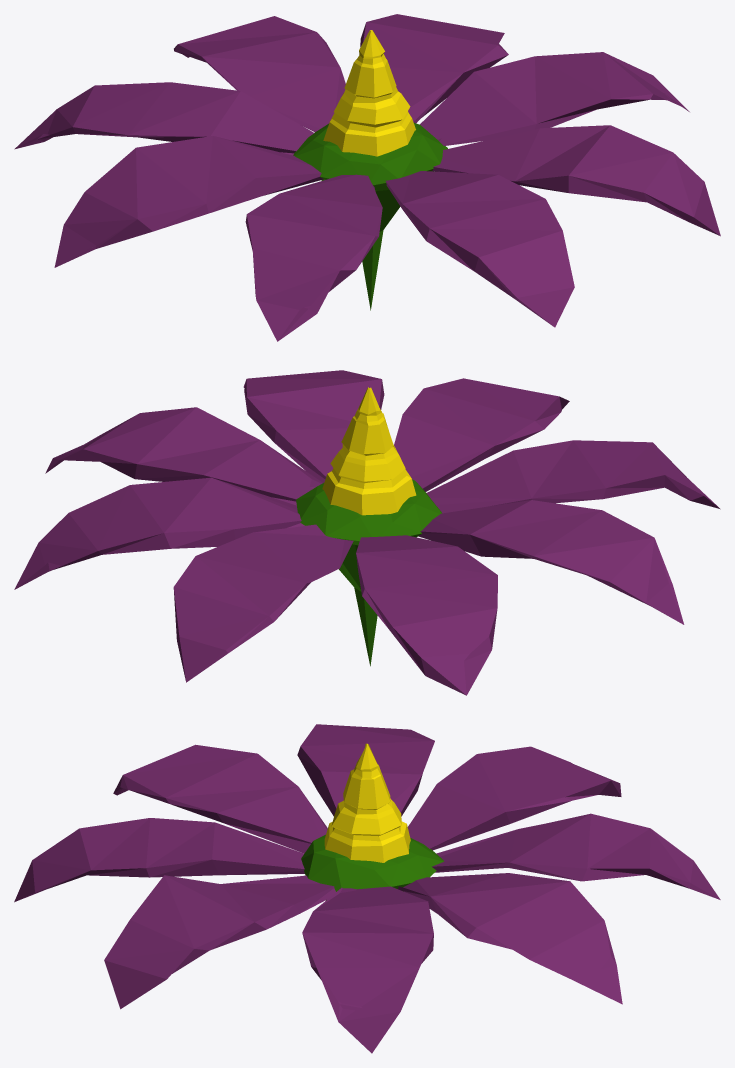
The model's file is FlowerV1.fbx.
The picture shows the model from 3 angles, top to bottom: view 1: azimuth 30°, elevation 25°; view 2: azimuth 150°, elevation 25°; view 3: azimuth 270°, elevation 25°; orthographic projection. The views are drawn at different scales.
Visible parts, largest first — view 1: Cube.007, Cylinder, Icosphere; view 2: Cube.007, Cylinder, Icosphere; view 3: Cube.007, Cylinder, Icosphere.
Boxes of the visible parts, x1=… form: Cube.007: x1=14, y1=14, x2=720, y2=341; Cylinder: x1=323, y1=30, x2=415, y2=156; Icosphere: x1=293, y1=122, x2=447, y2=310; Cube.007: x1=14, y1=370, x2=720, y2=695; Cylinder: x1=322, y1=387, x2=416, y2=515; Icosphere: x1=296, y1=479, x2=441, y2=666; Cube.007: x1=14, y1=724, x2=720, y2=1053; Cylinder: x1=324, y1=743, x2=410, y2=862; Icosphere: x1=301, y1=834, x2=444, y2=900.
Size of the model in its own units: 1408 by 591 by 1398.
